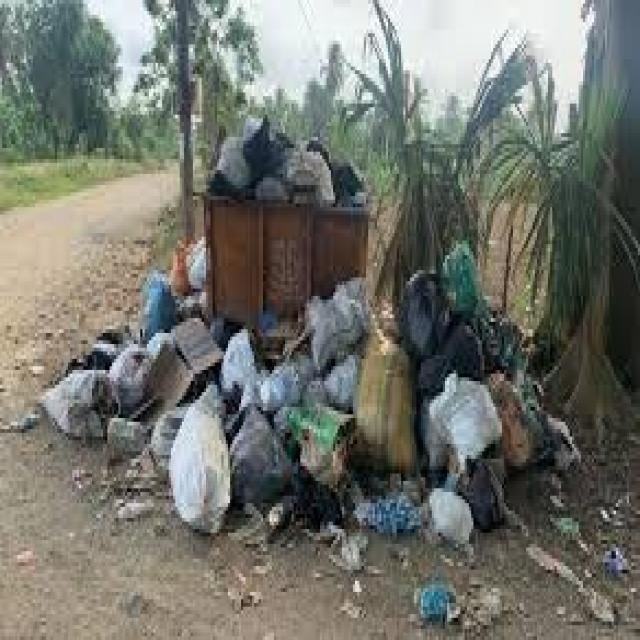garbage: (27, 117, 568, 576)
